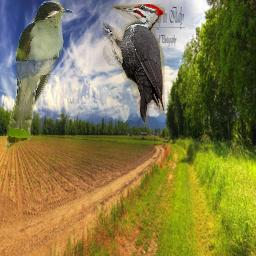Cuckoo: (5, 1, 73, 154)
Woodpecker: (103, 4, 165, 127)
